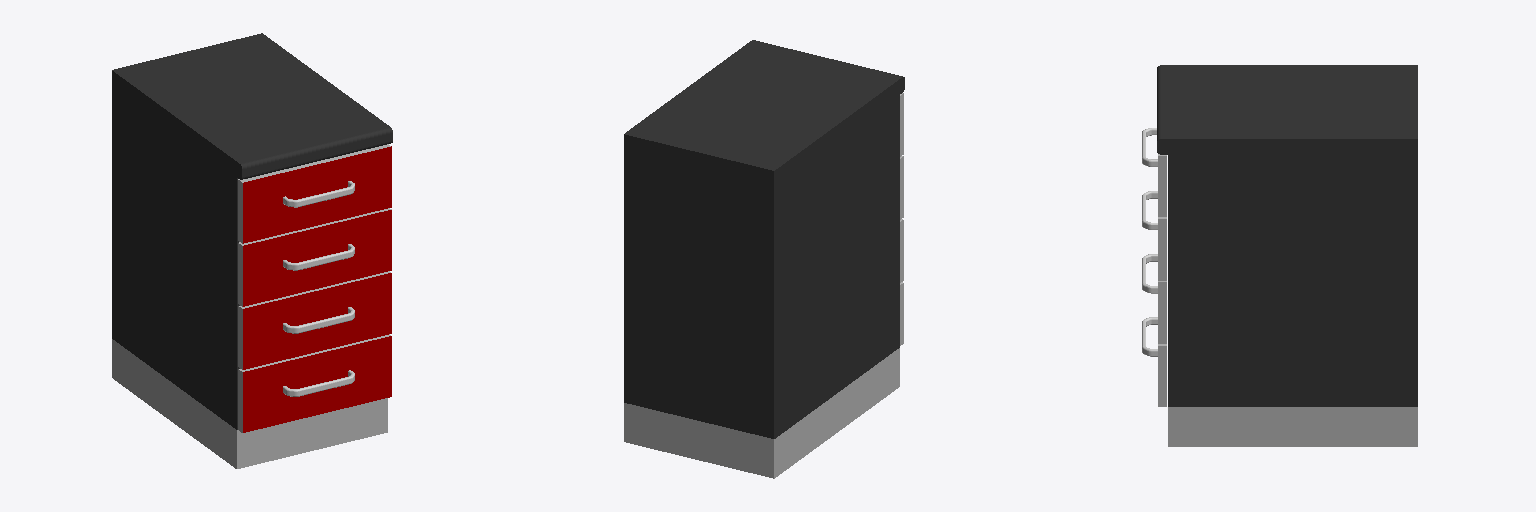
Rendered from drawers.obj.
The picture shows the model from 3 angles: view 1: azimuth 30°, elevation 25°; view 2: azimuth 150°, elevation 25°; view 3: azimuth 270°, elevation 25°; orthographic projection.
Parts seen in each view (by area): view 1: Box55_1, Line68_3, Box57_7, Box592_12, Box582_9, Box602_15, Box562_5, Loft21_19, Loft20_18, Loft18_2, Loft19_17; view 2: Box55_1, Line68_3, Box57_7; view 3: Box55_1, Line68_3, Box57_7, Box583_10, Box593_13, Box563_6, Box603_16.
Boxes of the visible parts, x1,y1,x2,y2 form: Box55_1: [112, 86, 239, 429]; Line68_3: [112, 33, 392, 179]; Box57_7: [112, 339, 387, 468]; Box592_12: [243, 210, 391, 306]; Box582_9: [243, 273, 391, 369]; Box602_15: [243, 146, 391, 243]; Box562_5: [243, 336, 391, 432]; Loft21_19: [283, 370, 354, 396]; Loft20_18: [283, 307, 354, 333]; Loft18_2: [283, 181, 354, 207]; Loft19_17: [283, 244, 354, 270]; Box55_1: [624, 95, 899, 438]; Line68_3: [624, 40, 904, 186]; Box57_7: [624, 348, 899, 478]; Box55_1: [1168, 155, 1417, 406]; Line68_3: [1157, 65, 1417, 154]; Box57_7: [1168, 407, 1417, 446]; Box583_10: [1158, 282, 1166, 343]; Box593_13: [1158, 219, 1166, 280]; Box563_6: [1158, 346, 1166, 406]; Box603_16: [1158, 156, 1166, 216].
Size of the model in its own units: 40 by 78 by 63.38.